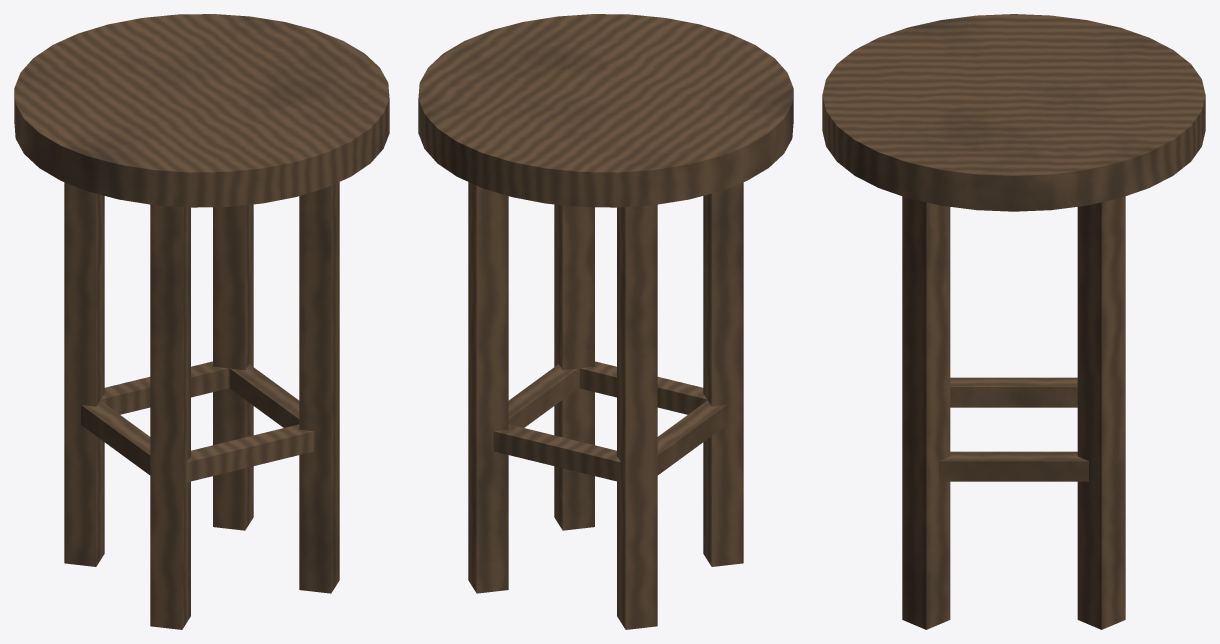
Rendered from SM_Stool_Wooden.fbx.
The picture shows the model from 3 angles, left to right: view 1: azimuth 30°, elevation 25°; view 2: azimuth 150°, elevation 25°; view 3: azimuth 270°, elevation 25°; orthographic projection.
Visible parts, largest first — view 1: SM_Stool_Wooden; view 2: SM_Stool_Wooden; view 3: SM_Stool_Wooden.
Boxes of the visible parts, x1,y1,x2,y2 form: SM_Stool_Wooden: (14,14,389,629); SM_Stool_Wooden: (418,14,793,629); SM_Stool_Wooden: (822,14,1205,629).
Size of the model in its own units: 0.34 by 0.4775 by 0.34.
1 material, 1 textured.
